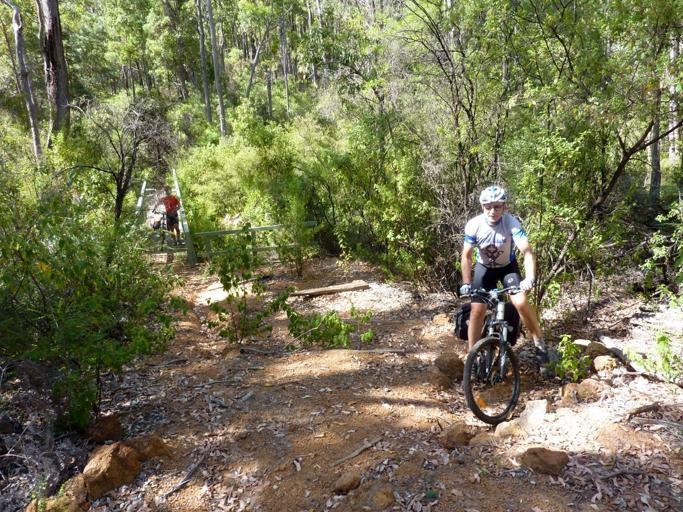non-vehicle: (454, 282, 536, 422), (151, 210, 173, 250)
